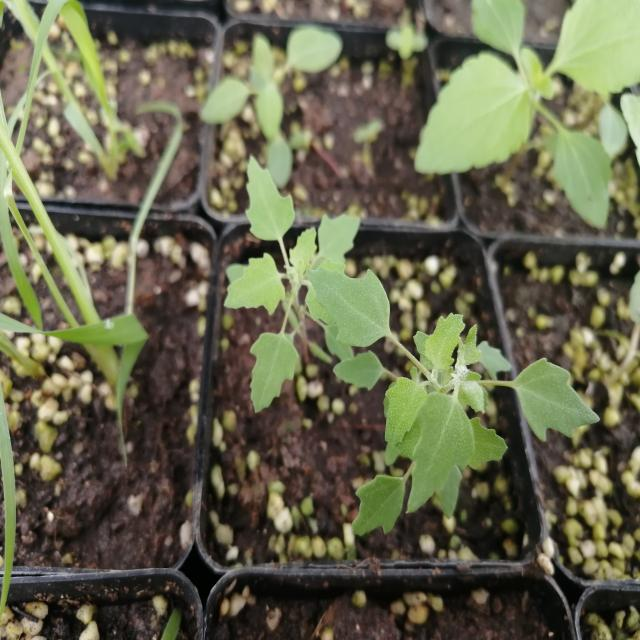goosefoots: (310, 260, 599, 554), (226, 180, 388, 414)
